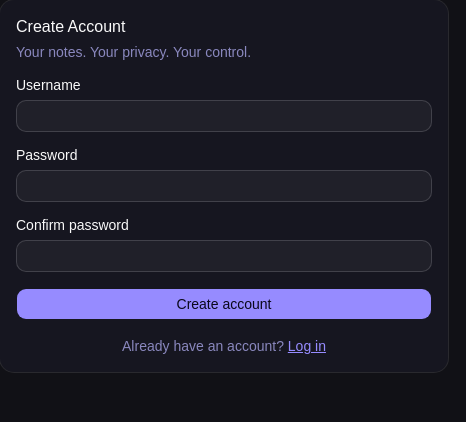
it: RegisterPage › disables submit and shows the taken badge when the username is already taken
The image size is (466, 422).
In the field labelled "Username": (224, 116) 16,100 -> 432,132, type "testuser"
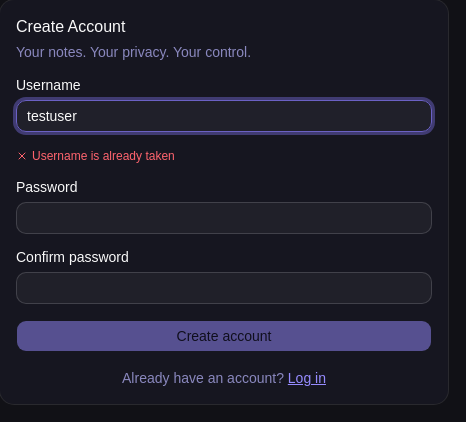
Now the text "Username is already taken" is shown, box 16,149 -> 175,163
Now the button "Create account" is disabled, box 16,320 -> 432,352
